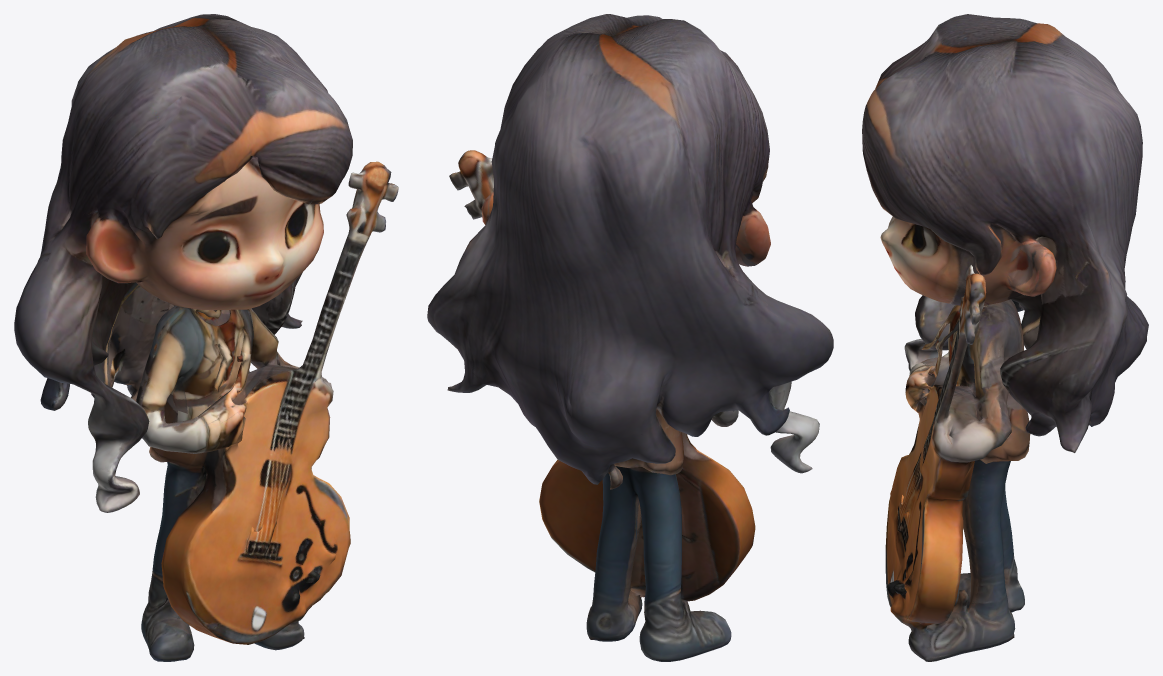
Rendered from Guitar_Girl.glb.
3 renders of one model, left to right at view 1: azimuth 30°, elevation 25°; view 2: azimuth 150°, elevation 25°; view 3: azimuth 270°, elevation 25°, orthographic. The views are drawn at different scales.
Size of the model in its own units: 1.28 by 2 by 0.8655.
Materials: 1 (1 with a texture image).
